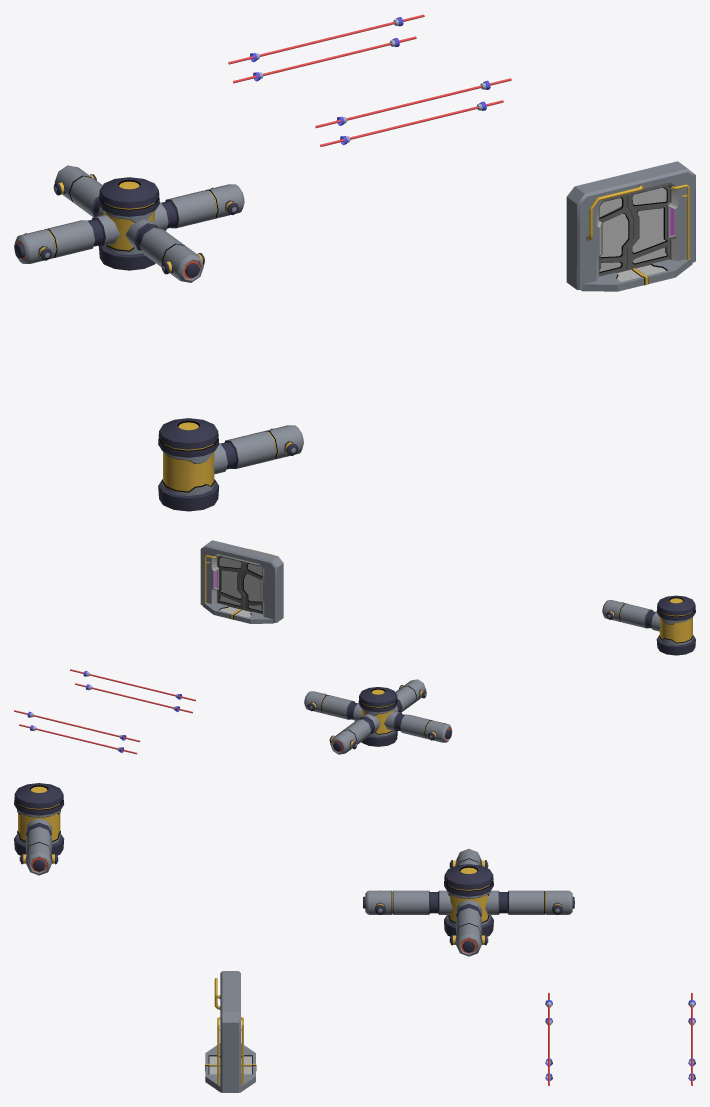
File: Level37_Objects.fbx
3 views of the same model, one above another, from view 1: azimuth 30°, elevation 25°; view 2: azimuth 150°, elevation 25°; view 3: azimuth 270°, elevation 25° (orthographic). The views are drawn at different scales.
Visible parts, largest first — view 1: pCylinder14 (×5), pCylinder13 (×2), Base, Right, Left, Base5; view 2: pCylinder14 (×5), pCylinder13 (×2), Base, Right, Left, Base5; view 3: pCylinder14 (×4), pCylinder13 (×2), Base, Base5.
Boxes of the visible parts, box(x1,y1,x2,y2) form: pCylinder14 (×5): box(14, 165, 303, 474); pCylinder13 (×2): box(98, 177, 219, 511); Base: box(566, 161, 695, 289); Right: box(626, 185, 669, 270); Left: box(598, 195, 633, 276); Base5: box(581, 258, 692, 291); pCylinder14 (×5): box(304, 600, 660, 754); pCylinder13 (×2): box(358, 595, 695, 746); Base: box(200, 540, 283, 622); Right: box(217, 556, 244, 610); Left: box(240, 562, 262, 614); Base5: box(202, 602, 273, 623); pCylinder14 (×4): box(26, 819, 574, 956); pCylinder13 (×2): box(14, 783, 493, 936); Base: box(220, 971, 240, 1092); Base5: box(205, 1043, 256, 1092).
Size of the model in its own units: 302 by 43.62 by 329.
